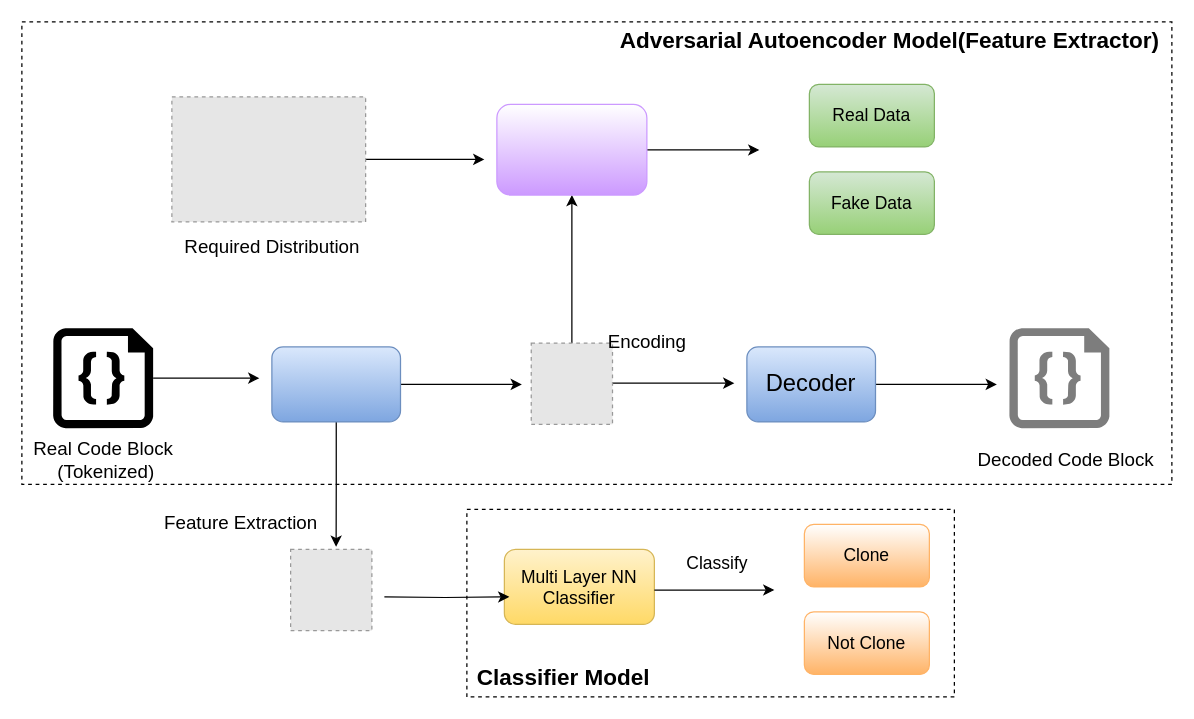
Image size: 1194x719. Some labels were removed from this diagram. Grey dashed boxes stand in for pictures. Here are the shapes that lost their labels. From the top down, the centre of each, then its label:
At (x=571, y=149): "Discrimiator (GAN)".
At (x=335, y=384): "Encoder".
